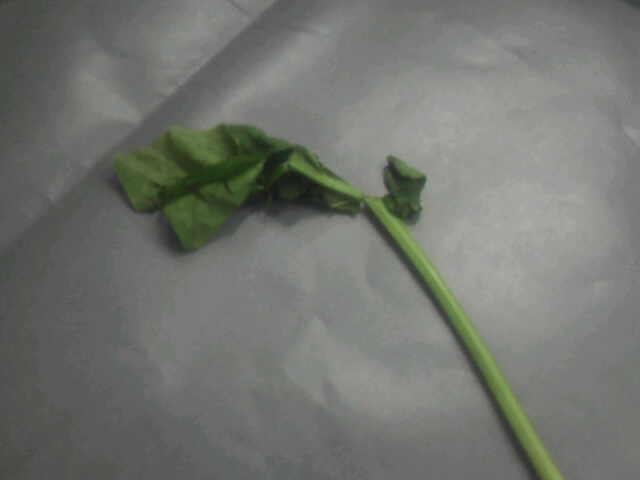yellow: (93, 92, 443, 277)
